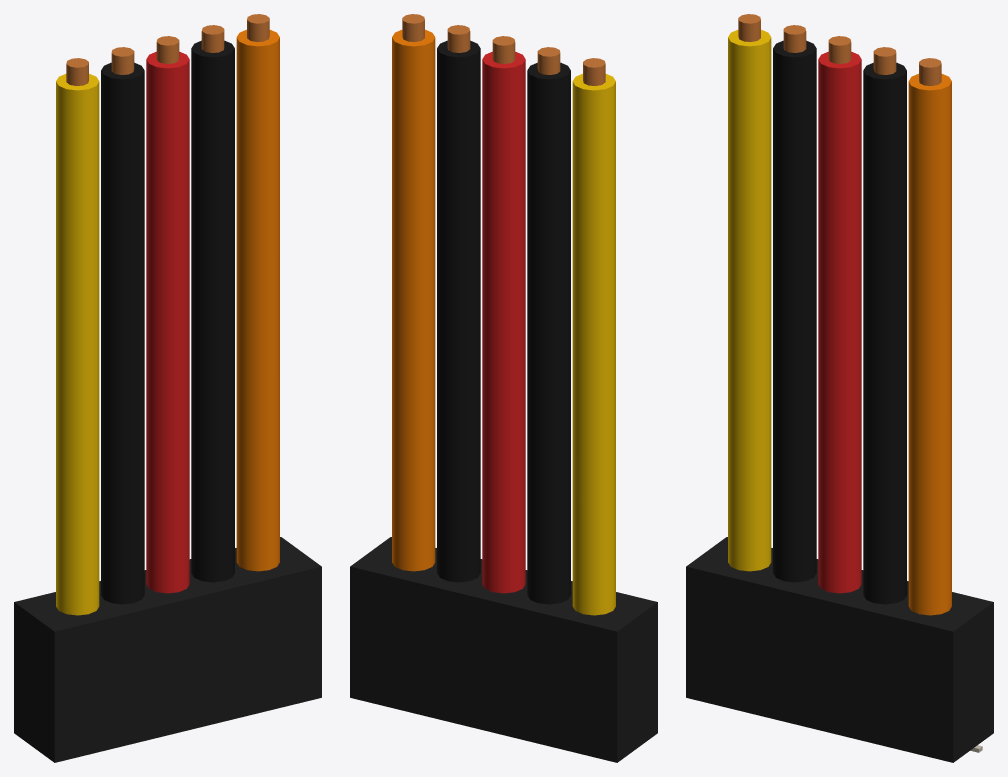
The model's file is sata.glb.
3 renders of one model, left to right at view 1: azimuth 30°, elevation 25°; view 2: azimuth 150°, elevation 25°; view 3: azimuth 330°, elevation 25°, orthographic.
Visible parts, largest first — view 1: cable_sata; view 2: cable_sata; view 3: cable_sata.
Part boxes in pixels (x1,y1,x2,y2): cable_sata: [14, 14, 321, 762]; cable_sata: [350, 14, 657, 762]; cable_sata: [686, 14, 993, 762].
Size of the model in its own units: 0.1036 by 0.2494 by 0.0269.
